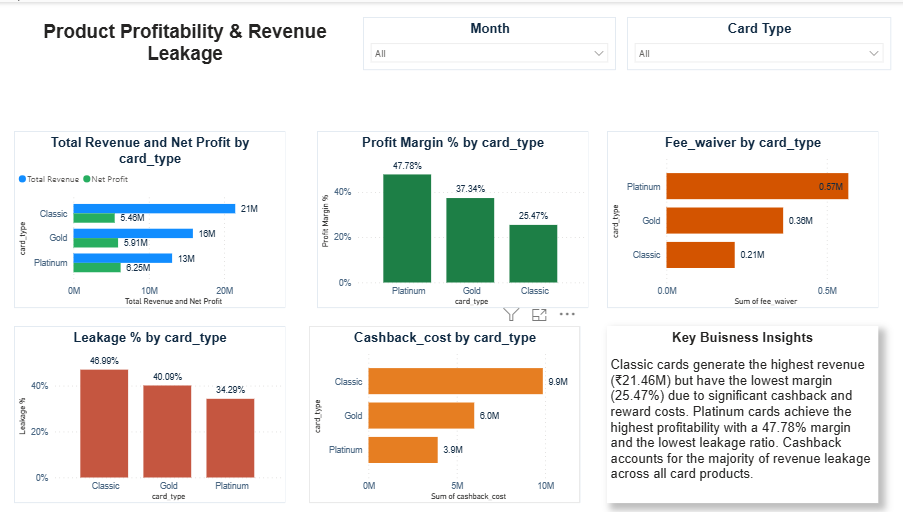

The dashboard page shown, as its layout file describes it:
{"tool":"powerbi","page":{"name":"Product Profitiability","canvas":[1280,720],"ordinal":1},"visuals":[{"type":"textbox","box":[9.9,21.2,502.6,74.8],"z":0},{"type":"slicer","title":"Month","fields":{"Values":["billing.month"]},"box":[512.5,21.2,357.2,74.8],"z":1000},{"type":"slicer","title":"Card Type","fields":{"Values":["billing.card_type"]},"box":[885.2,21.2,372.7,74.8],"z":2000},{"type":"clusteredBarChart","fields":{"Y":["Matrix.Total Revenue","Matrix.Net Profit"],"Category":["billing.card_type"]},"box":[19.8,182.1,382.6,249.9],"z":3000},{"type":"clusteredBarChart","title":"Fee_waiver by card_type","fields":{"Category":["billing.card_type"],"Y":["Sum(billing.fee_waiver)"]},"box":[856.9,182.1,382.6,249.9],"z":4000},{"type":"clusteredBarChart","title":"Cashback_cost by card_type","fields":{"Y":["Sum(billing.cashback_cost)"],"Category":["billing.card_type"]},"box":[436.2,457.4,382.6,249.9],"z":5000},{"type":"clusteredColumnChart","fields":{"Category":["billing.card_type"],"Y":["Matrix.Leakage %"]},"box":[19.8,457.4,382.6,249.9],"z":6000},{"type":"clusteredColumnChart","fields":{"Y":["Matrix.Profit Margin %"],"Category":["billing.card_type"]},"box":[447.5,182.1,382.6,249.9],"z":7000},{"type":"textbox","box":[857,457,383,250],"z":8000}]}

Visuals, with their boxes in screenshot pixels (x1, y1, x2, y2), scaled from the page's 1280x720 canvas onto the 903x512 screenshot:
textbox: (7,15,362,68)
"Month" slicer: (362,15,614,68)
"Card Type" slicer: (624,15,887,68)
clusteredBarChart - Matrix.Total Revenue x Matrix.Net Profit: (14,129,284,307)
"Fee_waiver by card_type" clusteredBarChart: (605,129,874,307)
"Cashback_cost by card_type" clusteredBarChart: (308,325,578,503)
clusteredColumnChart - billing.card_type x Matrix.Leakage %: (14,325,284,503)
clusteredColumnChart - Matrix.Profit Margin % x billing.card_type: (316,129,586,307)
textbox: (605,325,875,503)
